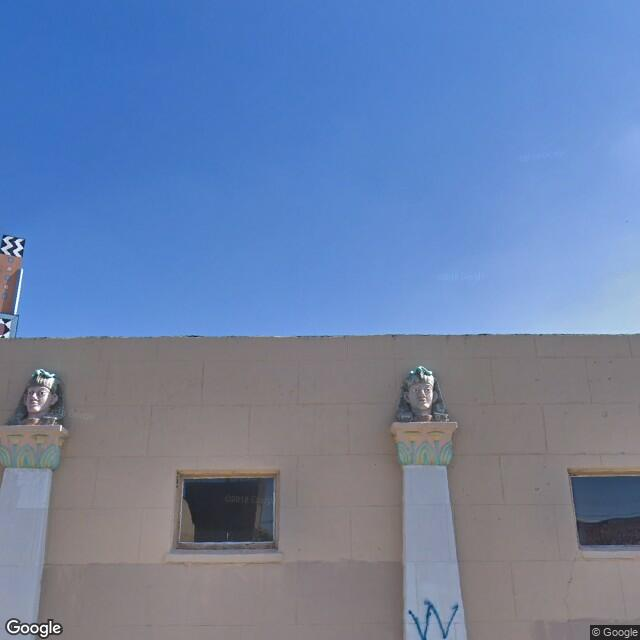window: (169, 466, 277, 547), (562, 456, 640, 565)
